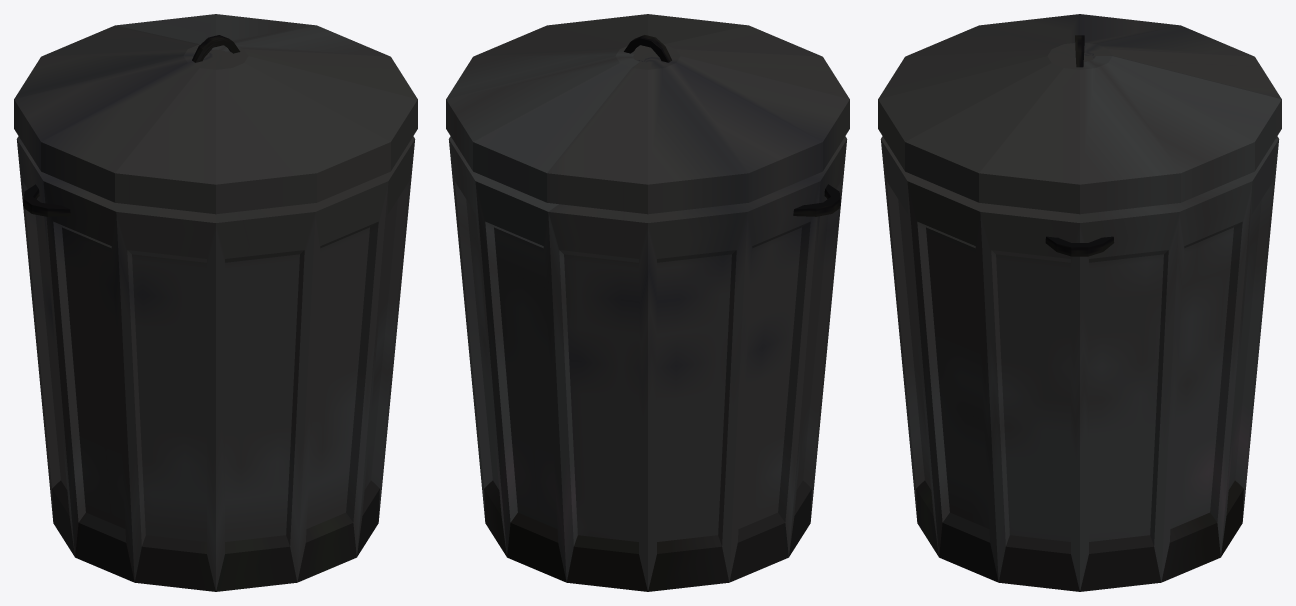
The model's file is TrashCan.fbx.
The picture shows the model from 3 angles, left to right: view 1: azimuth 30°, elevation 25°; view 2: azimuth 150°, elevation 25°; view 3: azimuth 270°, elevation 25°; orthographic projection.
Parts seen in each view (by area): view 1: TrashCan; view 2: TrashCan; view 3: TrashCan.
Boxes of the visible parts, x1,y1,x2,y2 form: TrashCan: (14, 14, 417, 591); TrashCan: (446, 14, 849, 591); TrashCan: (878, 14, 1281, 591).
Bounding box in the file's own units: 62.49 × 77.03 × 58.1.
